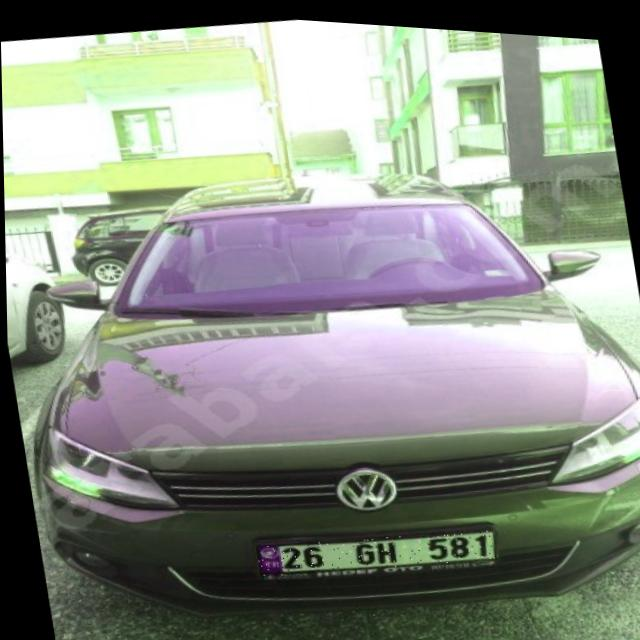license_plate: (252, 509, 496, 586)
